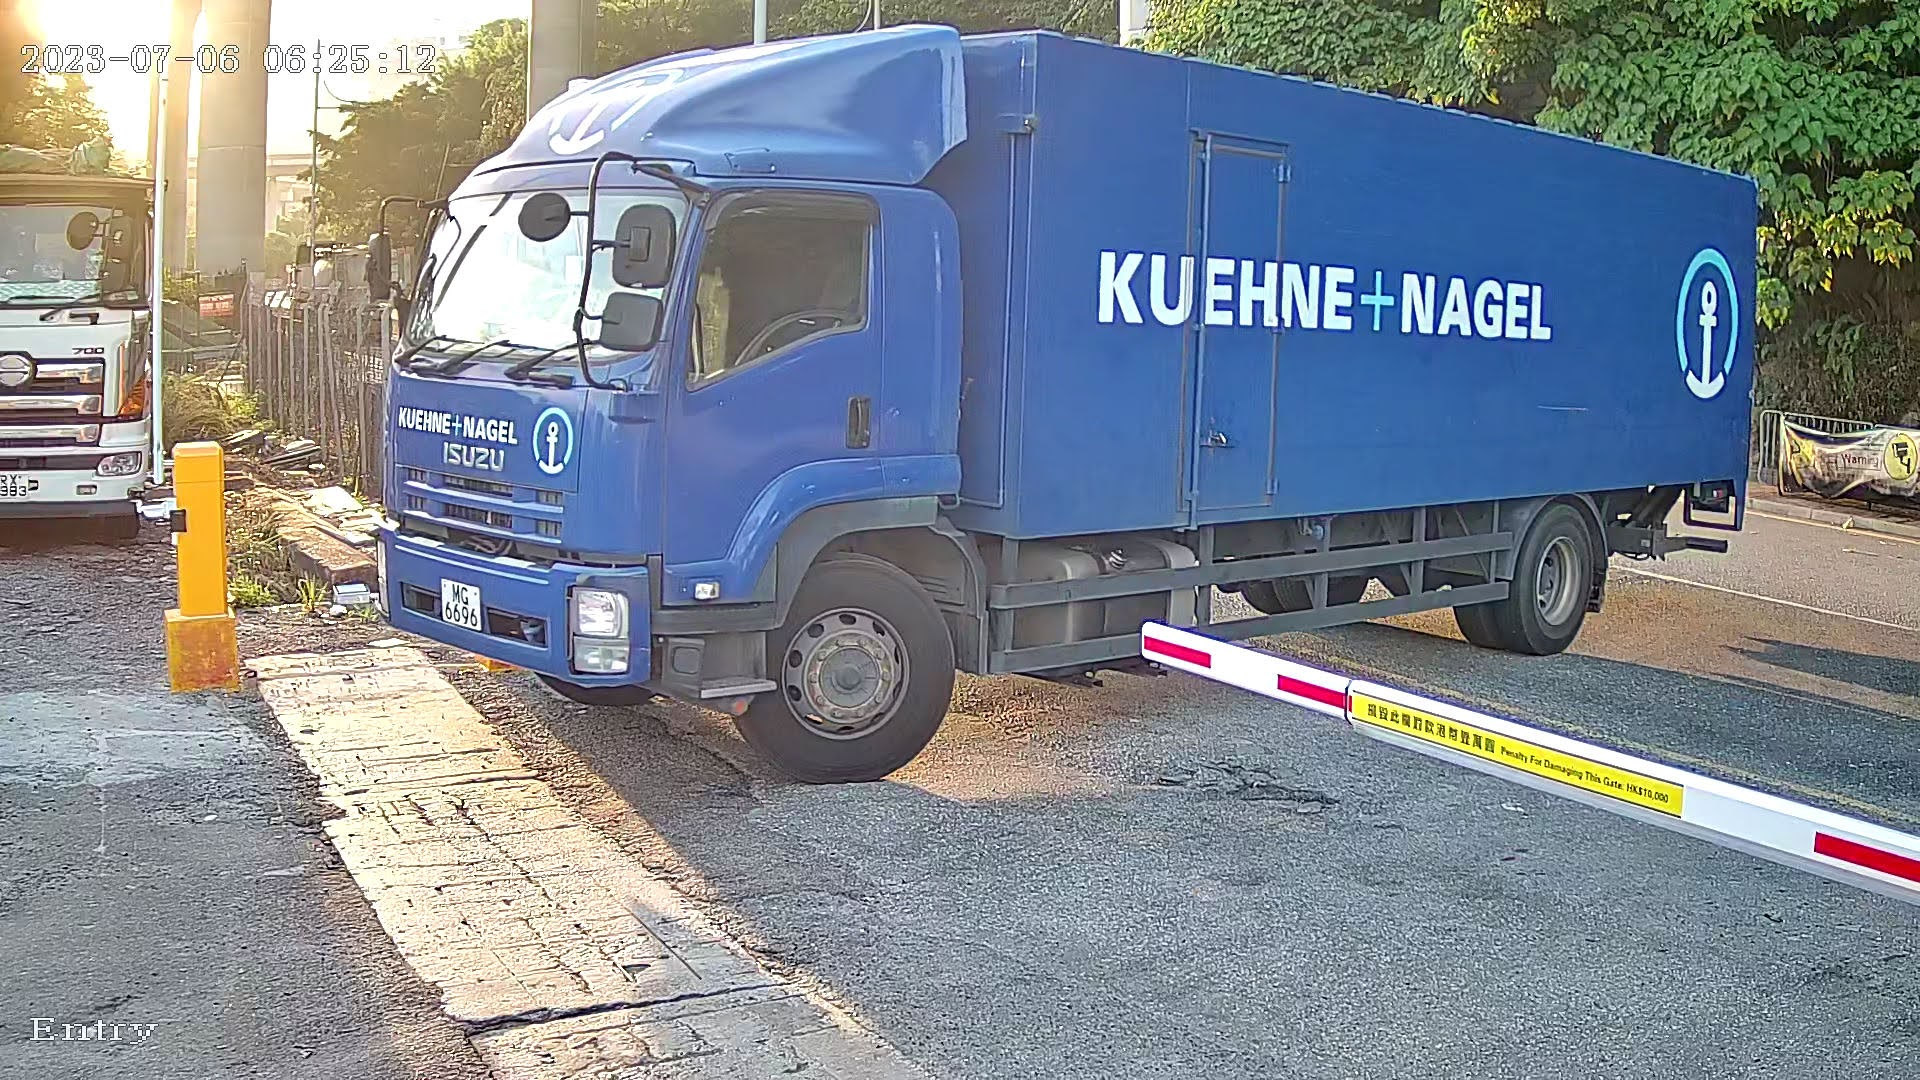truck: (352, 21, 1789, 796)
